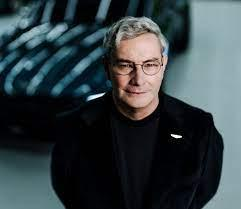Persons: (100, 15, 177, 123)
